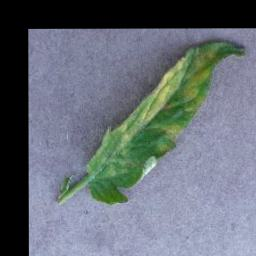Leaf_Mold: (89, 38, 245, 158)
